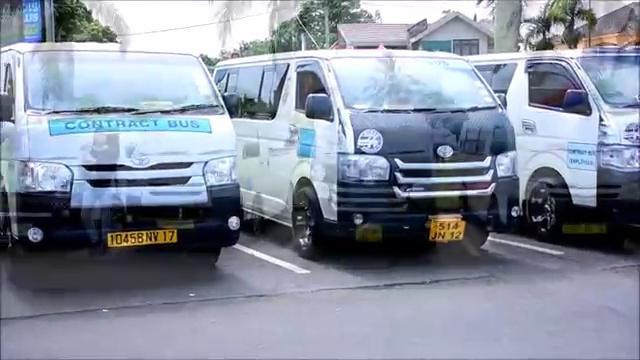Van: (220, 57, 531, 265), (2, 38, 248, 257)
